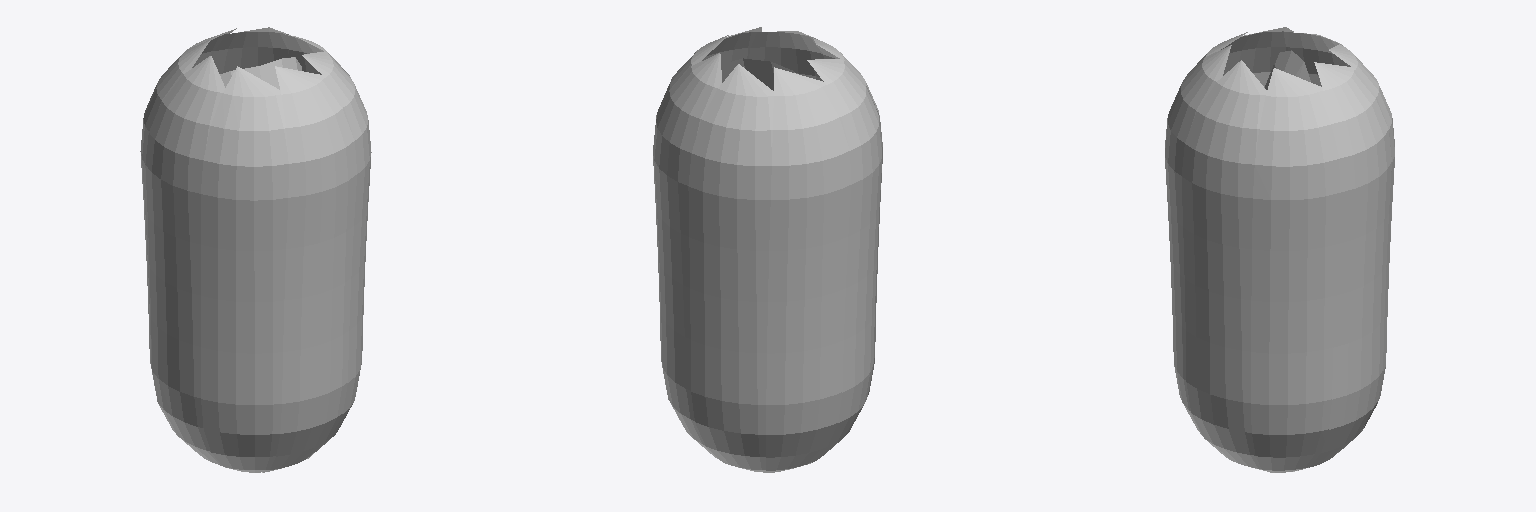
Rendered from FlowerTopModel_03_seq_0013.obj.
3 renders of one model, left to right at view 1: azimuth 30°, elevation 25°; view 2: azimuth 150°, elevation 25°; view 3: azimuth 270°, elevation 25°, orthographic.
Parts seen in each view (by area): view 1: FlowerTopModel_03; view 2: FlowerTopModel_03; view 3: FlowerTopModel_03.
Boxes of the visible parts, <box> form: FlowerTopModel_03: <box>140,27,371,472</box>; FlowerTopModel_03: <box>653,27,882,472</box>; FlowerTopModel_03: <box>1165,27,1394,472</box>.
Size of the model in its own units: 175 by 351 by 175.